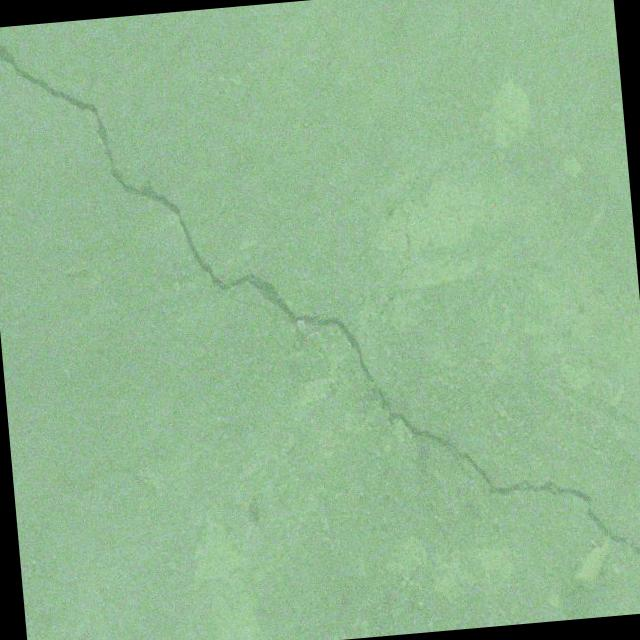crack: (0, 0, 640, 626), (451, 0, 464, 35)
